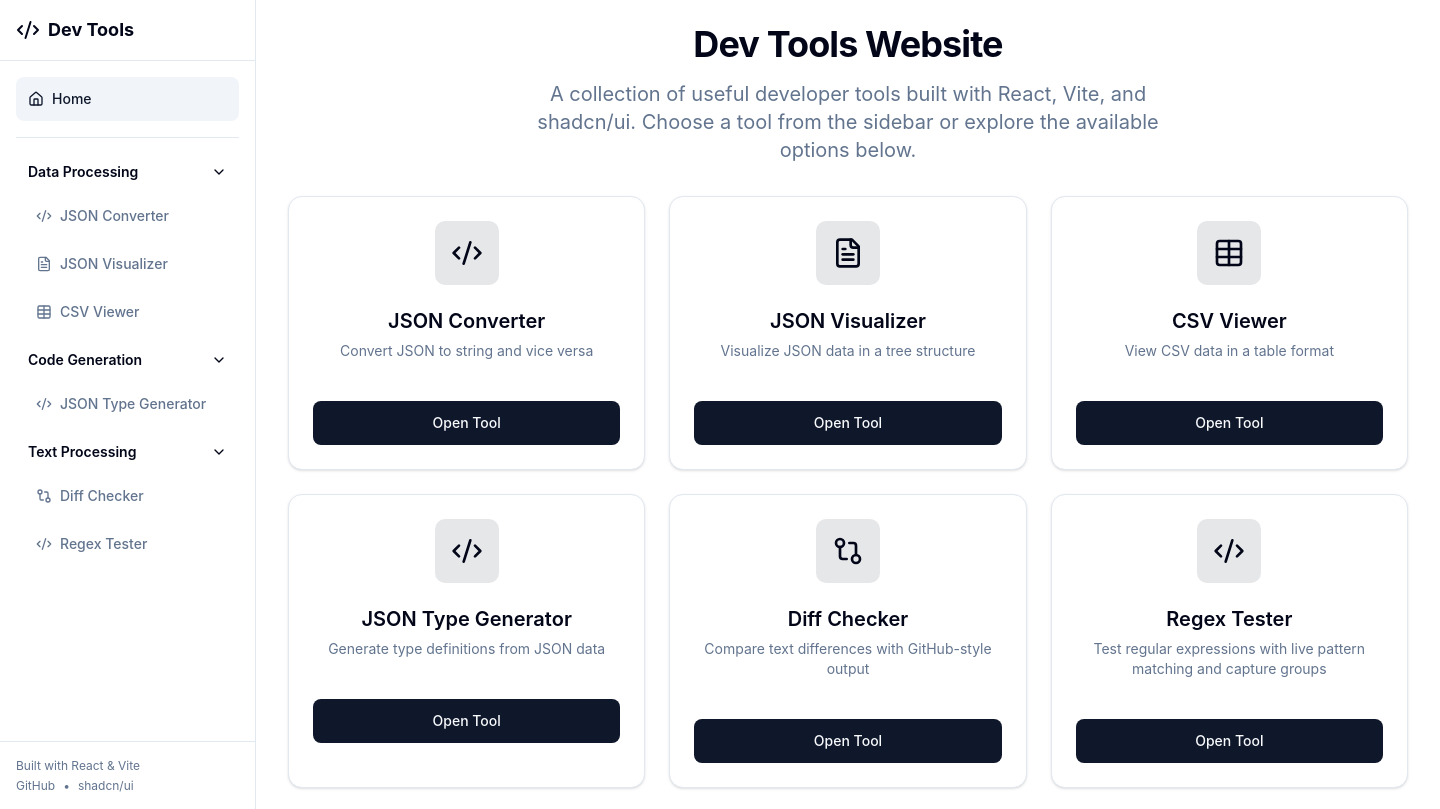
Test: New Tools Integration Tests › Tool Navigation and Routing › should navigate to JSON Type Generator from home page
Expected: the heading "Dev Tools Website" is shown, 693,22 -> 1003,66
// Find and click JSON Type Generator link (use getAllByRole to handle multiple matches)
Click the link "JSON Type Generator". click: (121, 404)
box: 36,395 -> 206,412
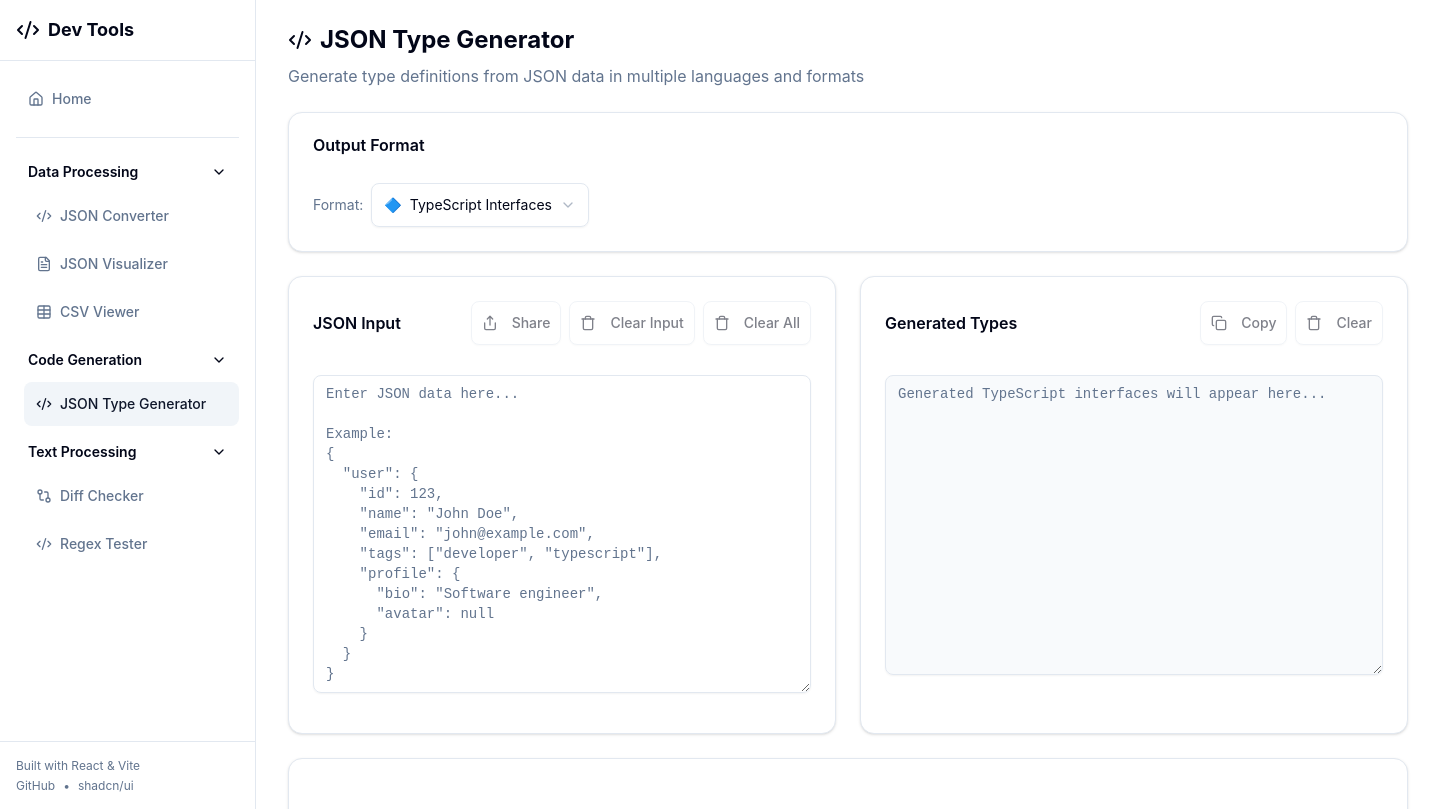
Expected: the number of links "JSON Type Generator" is 2, 24,382 -> 239,426; 288,25 -> 574,54
Result: the text "Generate type definitions from JSON data" is shown at 288,66 -> 864,86
